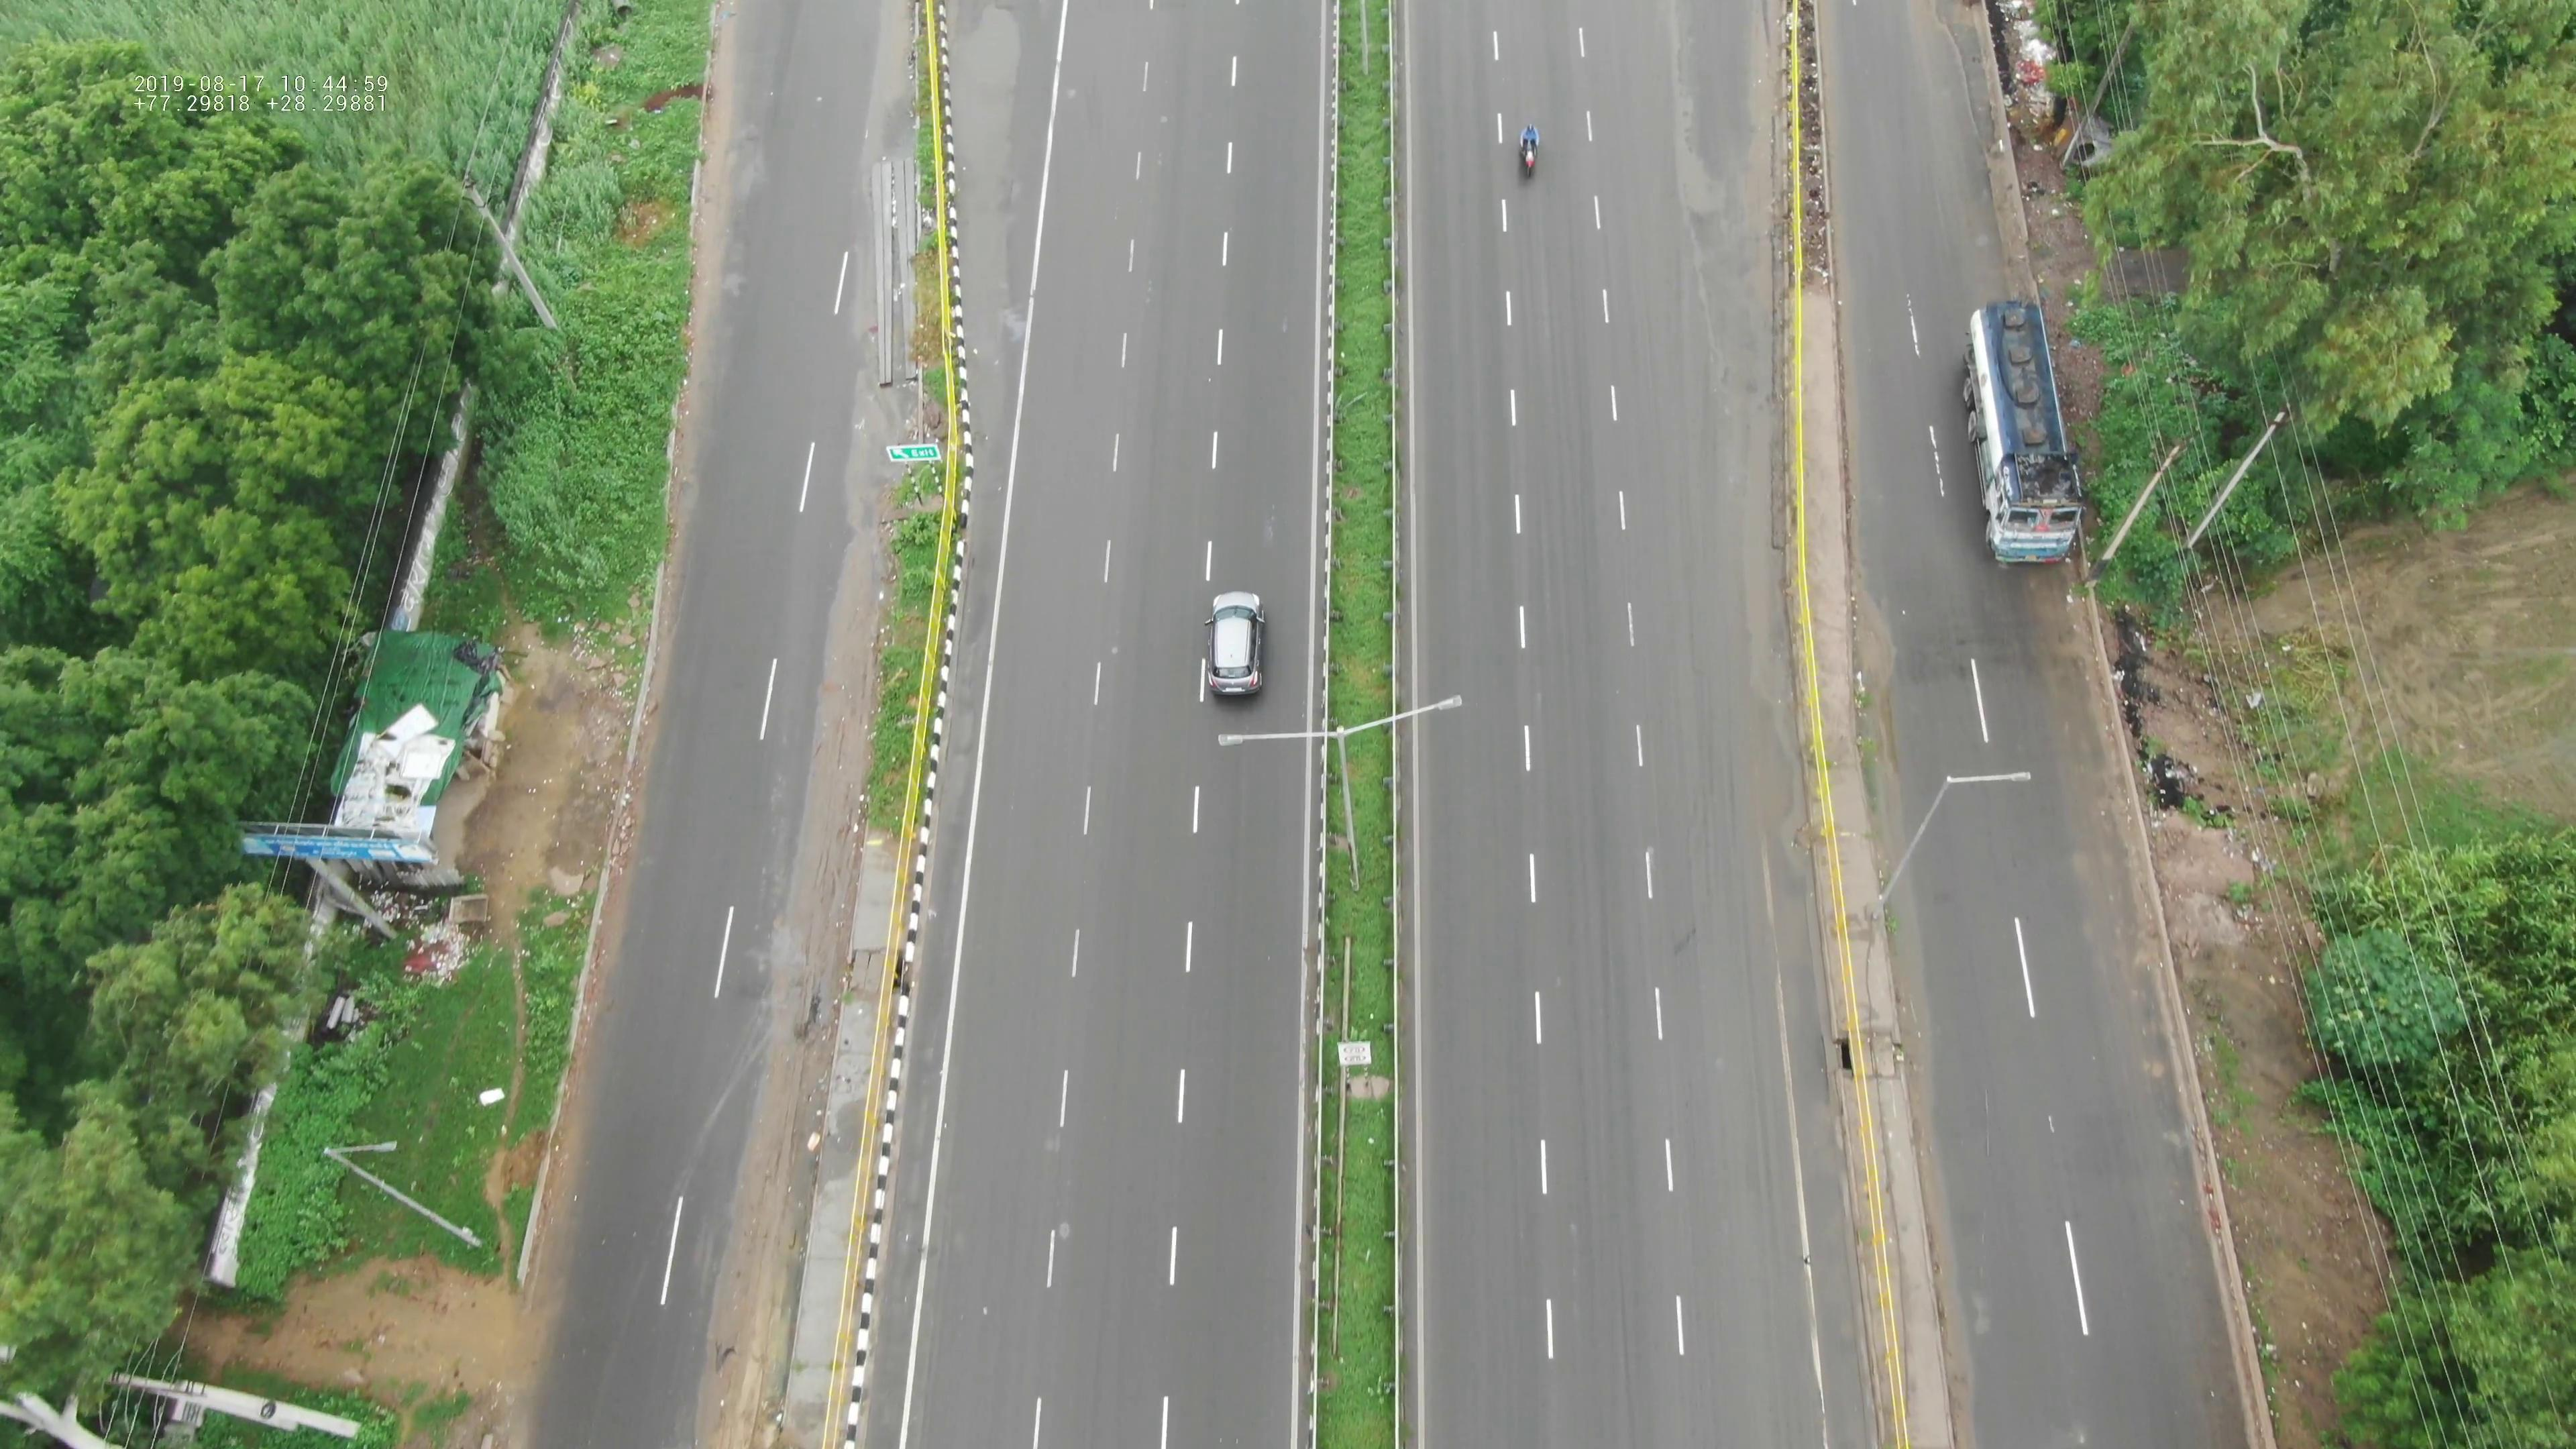Muddy_road: (697, 1095, 828, 1431)
